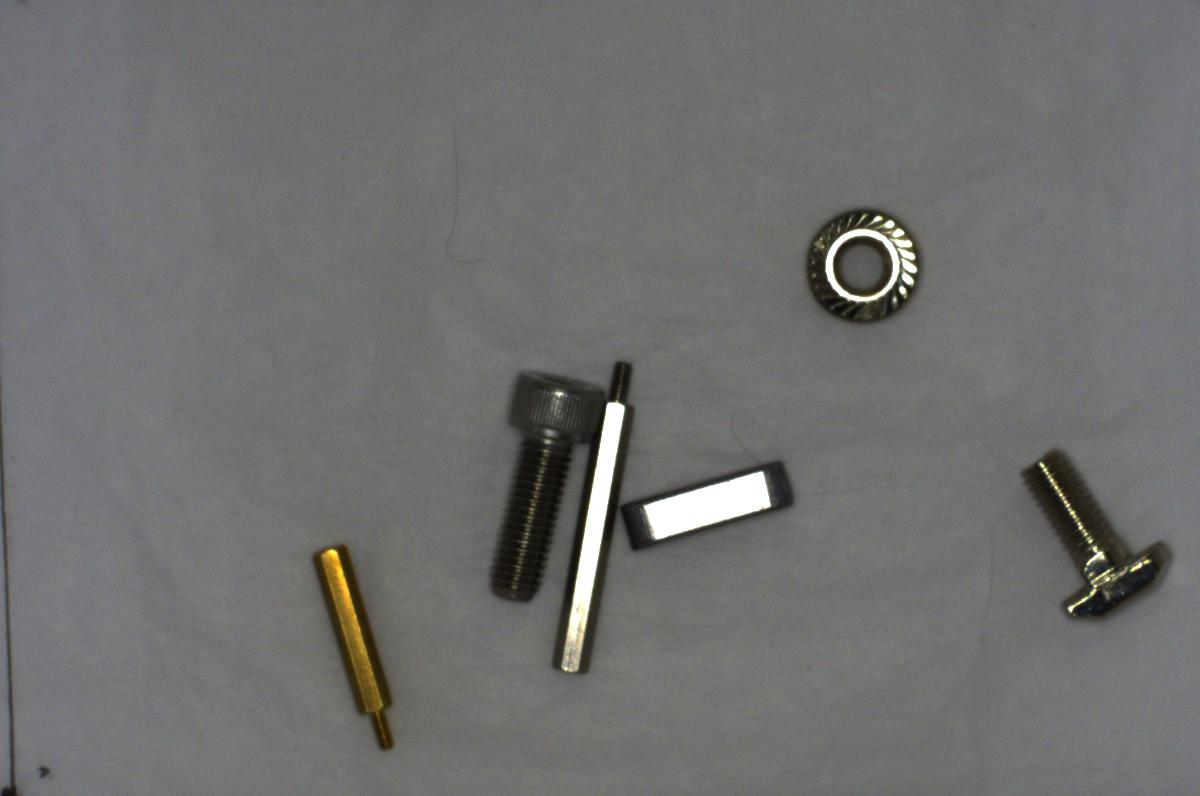Flange nut: (790, 201, 925, 325)
Hexagon pillar: (304, 533, 401, 755)
Hexagon screw: (479, 360, 610, 605)
Hexagonal steel column: (552, 358, 638, 680)
Keybar: (624, 456, 797, 554)
T-shaped screw: (1011, 441, 1179, 626)
